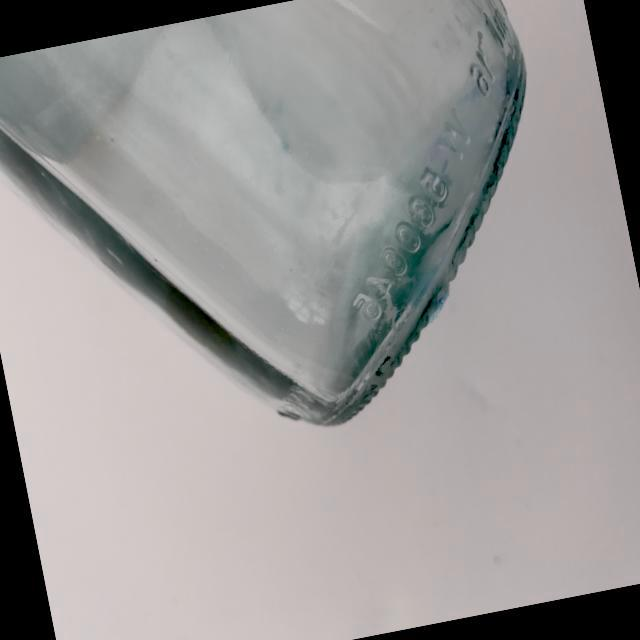glass: (0, 0, 596, 499)
